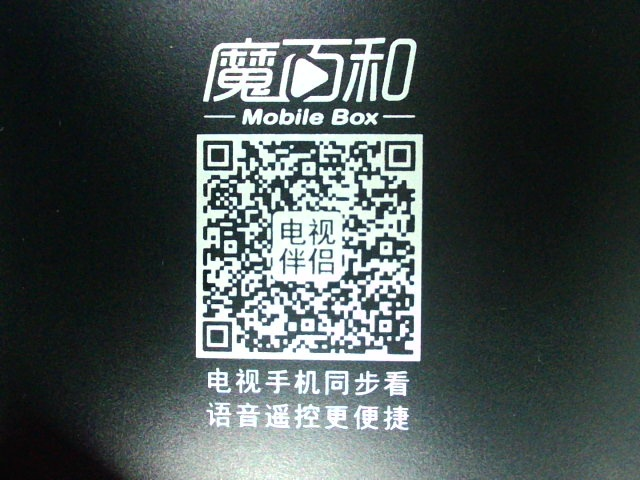AZ_MobileBox: (194, 31, 422, 434)
